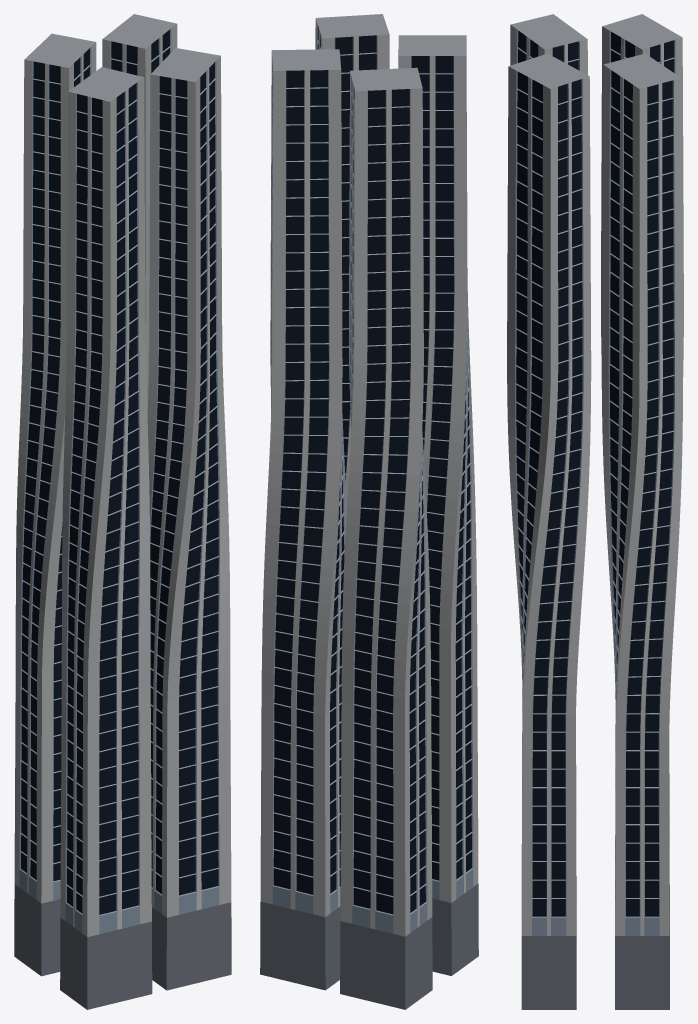
The model's file is Karlatornet.fbx.
3 renders of one model, left to right at view 1: azimuth 30°, elevation 25°; view 2: azimuth 150°, elevation 25°; view 3: azimuth 270°, elevation 25°, orthographic.
Parts seen in each view (by area): view 1: Karlatornet; view 2: Karlatornet; view 3: Karlatornet.
Boxes of the visible parts, <box> form: Karlatornet: <box>14,14,231,1009</box>; Karlatornet: <box>260,14,478,1009</box>; Karlatornet: <box>507,14,683,1009</box>.
Bounding box in the file's own units: 8.56 × 48 × 8.34.
